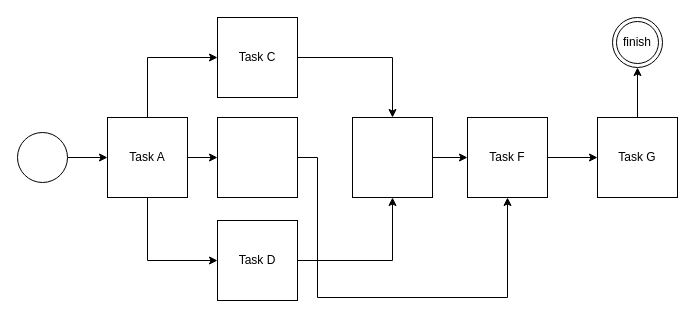
Some shapes in this 695 by 323 pixel diagram are drawn without their labels. The shapes that lost their labels are listed below. From the top down, each one's box as (x1, y1, x2, y2) in pixels, then its label:
(16, 132, 68, 182): Start
(216, 116, 298, 198): Task B
(352, 116, 432, 198): Task E
